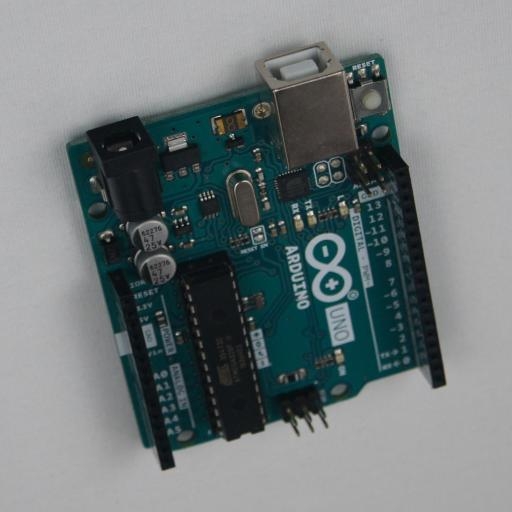Arduino Uno -Green-: (66, 46, 446, 470)
